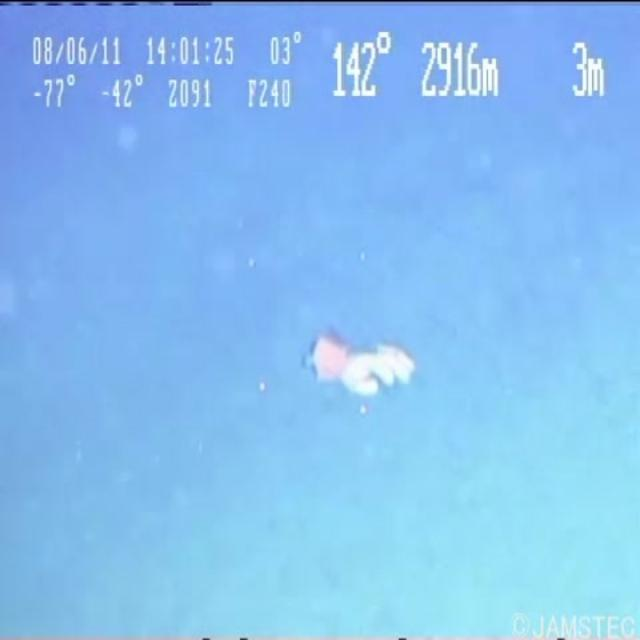Accessories: (305, 315, 418, 410)
